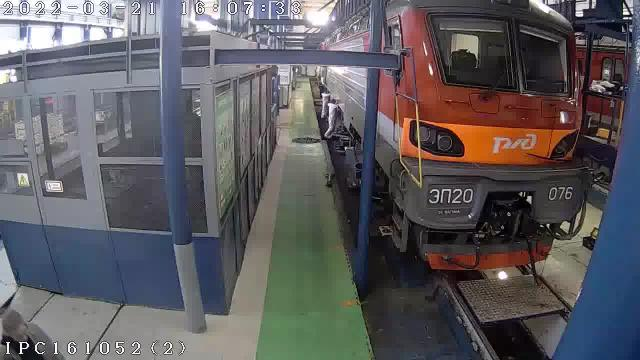person: (2, 309, 64, 359), (324, 99, 343, 138), (321, 92, 330, 118)
train: (375, 0, 590, 269)
